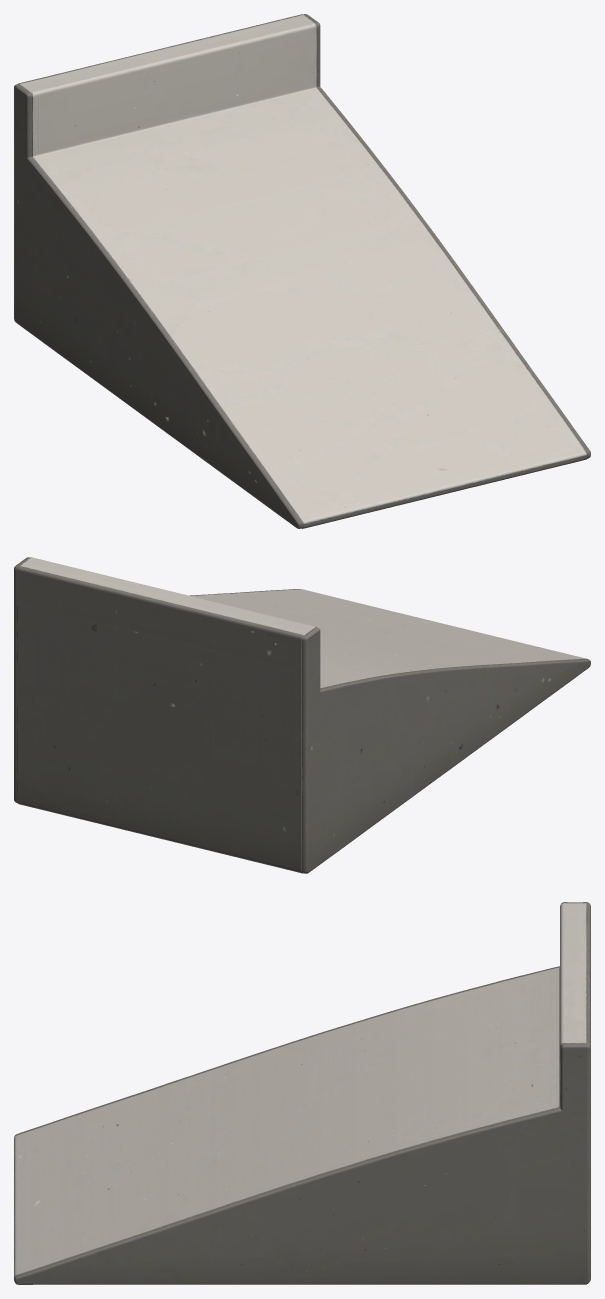
File: model-25-ramp-lipped.glb
3 renders of one model, top to bottom at view 1: azimuth 30°, elevation 25°; view 2: azimuth 150°, elevation 25°; view 3: azimuth 270°, elevation 25°, orthographic.
Parts seen in each view (by area): view 1: node_0; view 2: node_0; view 3: node_0.
Part boxes in pixels (box(x1,y1,x2,y2)): node_0: box(14, 14, 590, 528); node_0: box(14, 557, 590, 873); node_0: box(14, 902, 590, 1284).
Size of the model in its own units: 0.5737 by 0.4449 by 0.9666.
Materials: 1 (1 with a texture image).
